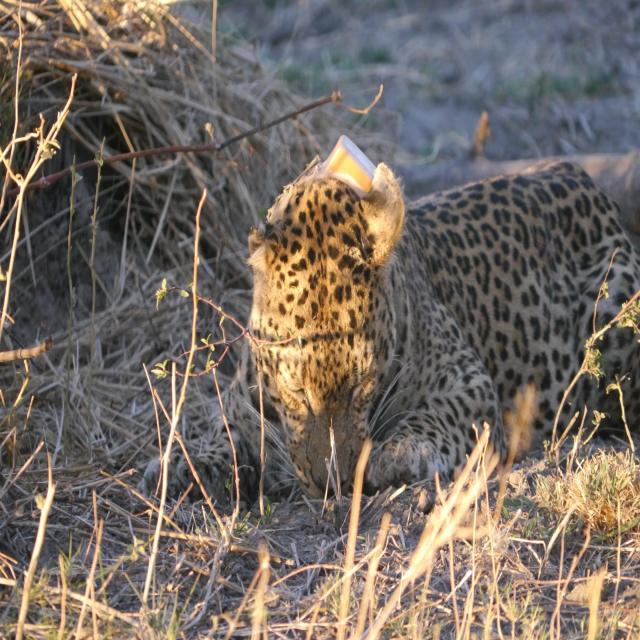Leopard: (222, 134, 640, 515)
